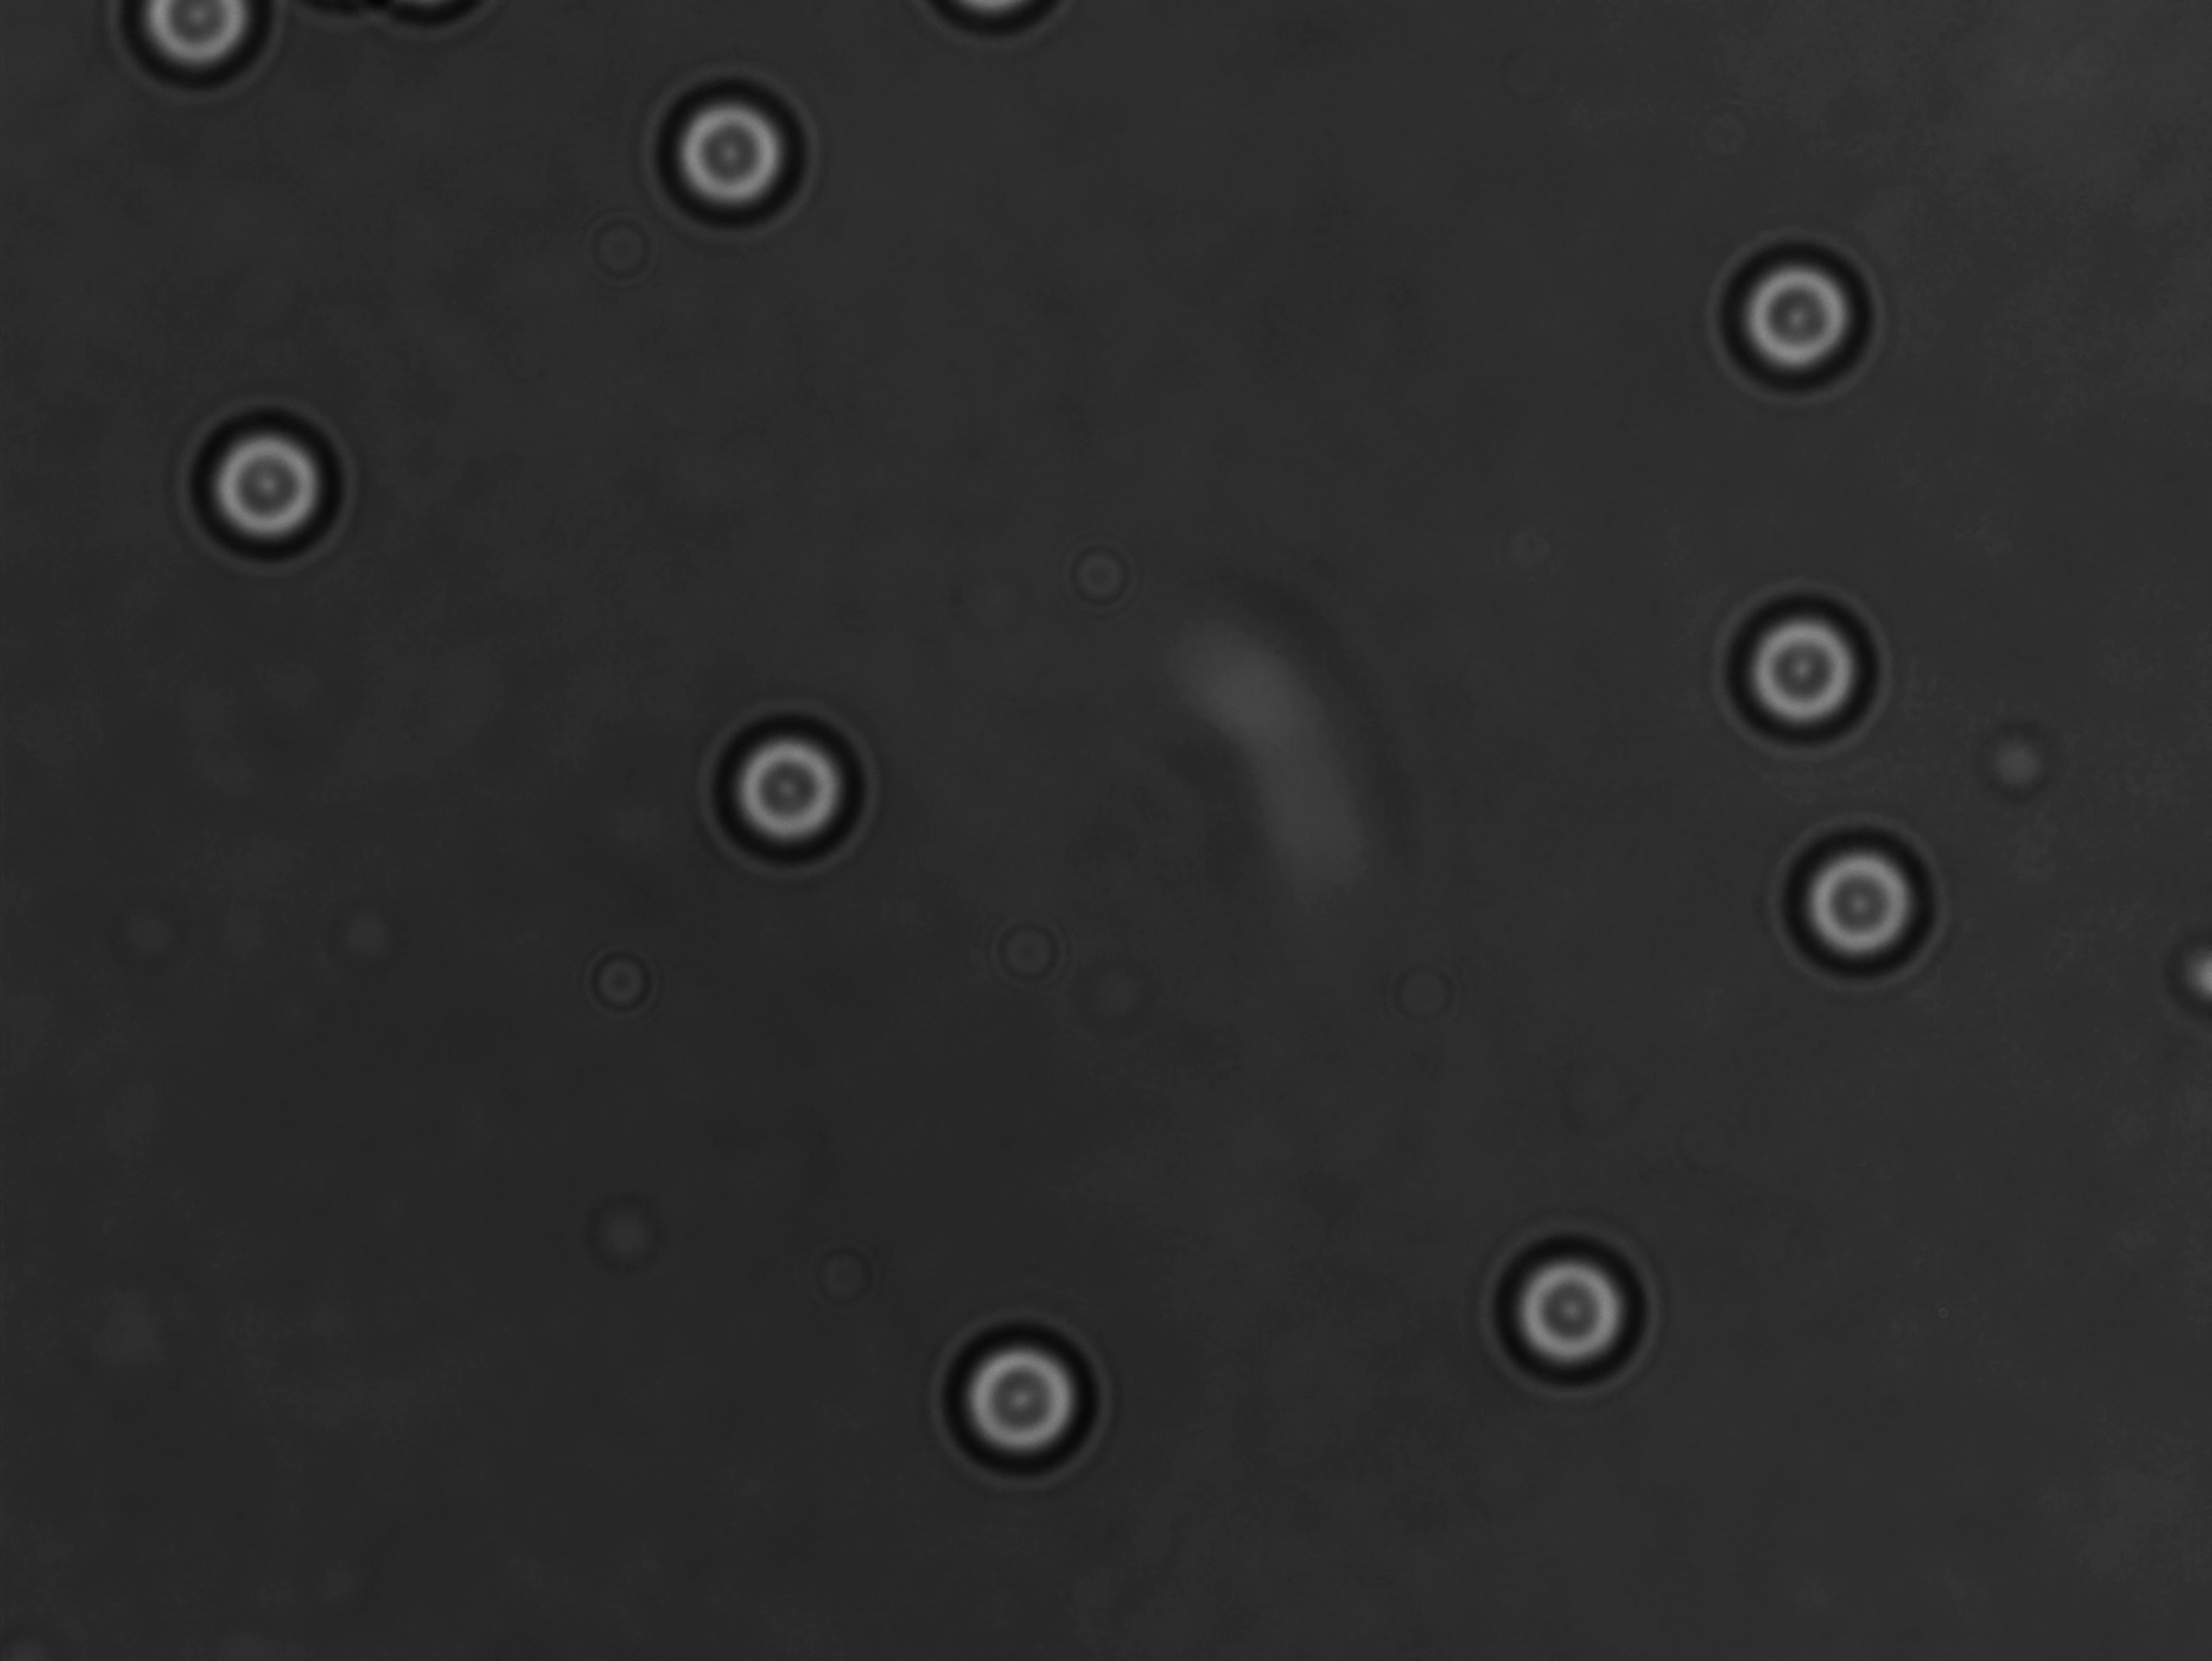depth:20: (691, 694, 883, 888), (937, 1298, 1132, 1488), (1478, 1234, 1669, 1410), (1718, 567, 1898, 745), (1778, 813, 1949, 998), (183, 393, 344, 567), (1710, 229, 1867, 405), (652, 73, 808, 232)
